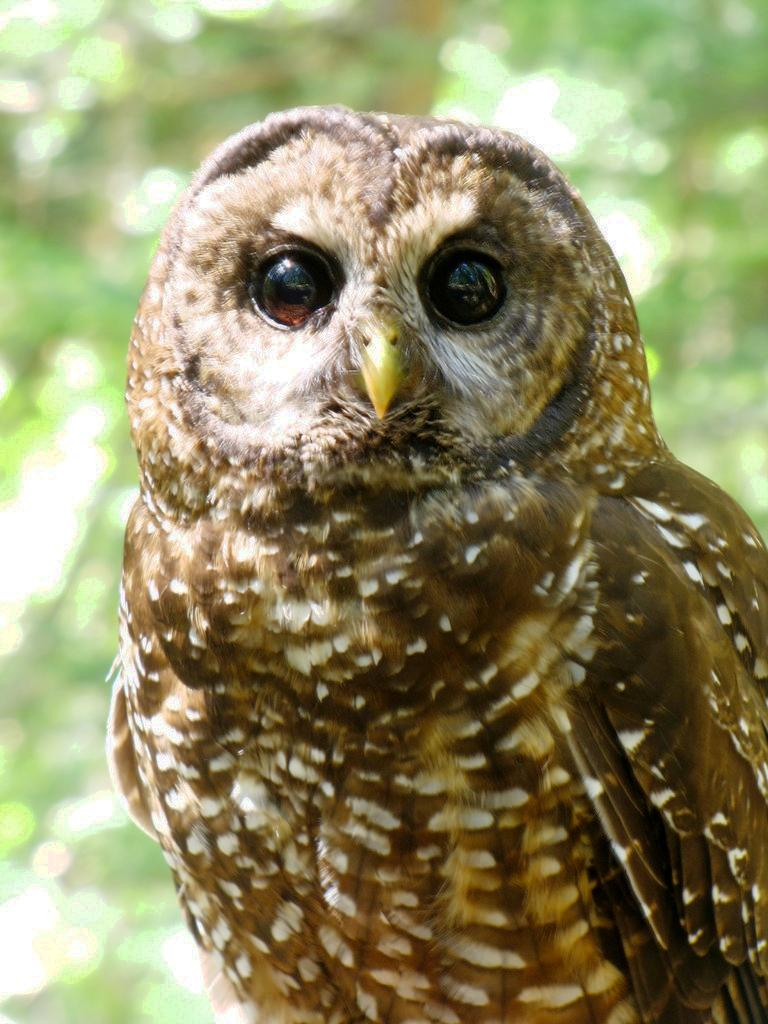Owl: (106, 100, 768, 1024)
